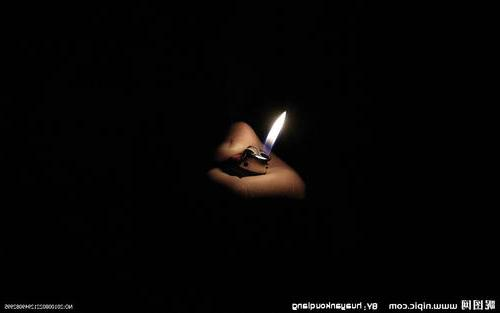fire: (260, 102, 295, 168)
